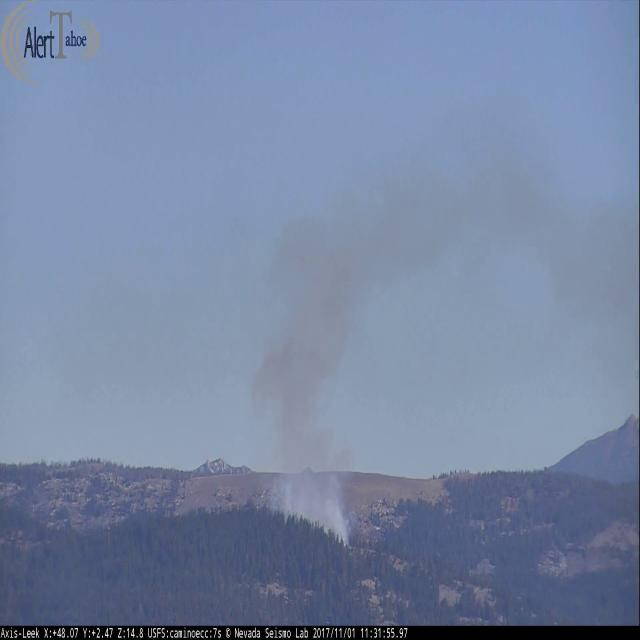smoke: (243, 120, 640, 546)
